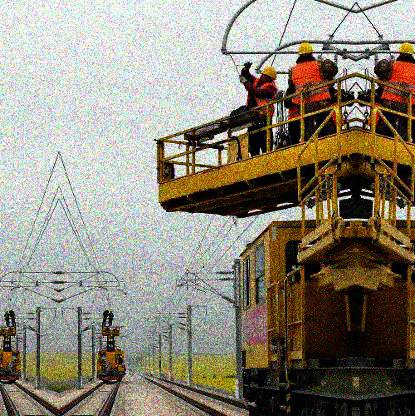helmet: (395, 41, 415, 63), (296, 42, 316, 62), (260, 65, 277, 85), (109, 310, 114, 313), (5, 311, 9, 314), (9, 309, 13, 312), (105, 309, 107, 312)
